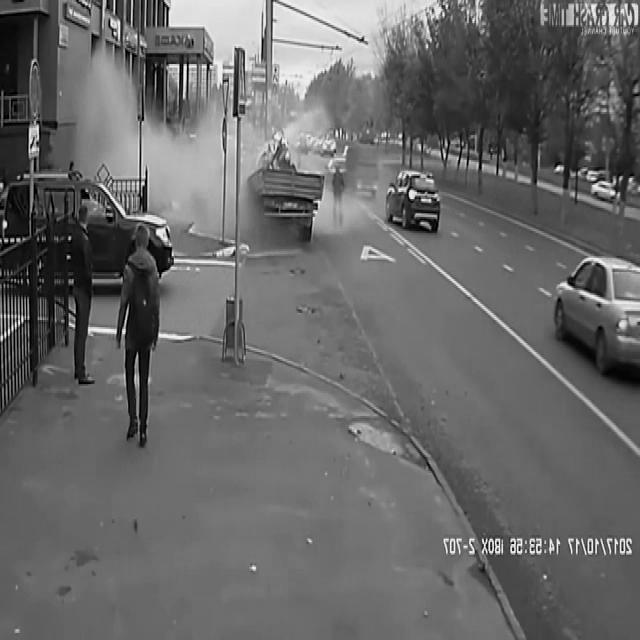accident: (190, 135, 326, 249)
non-accident: (294, 133, 338, 157)
